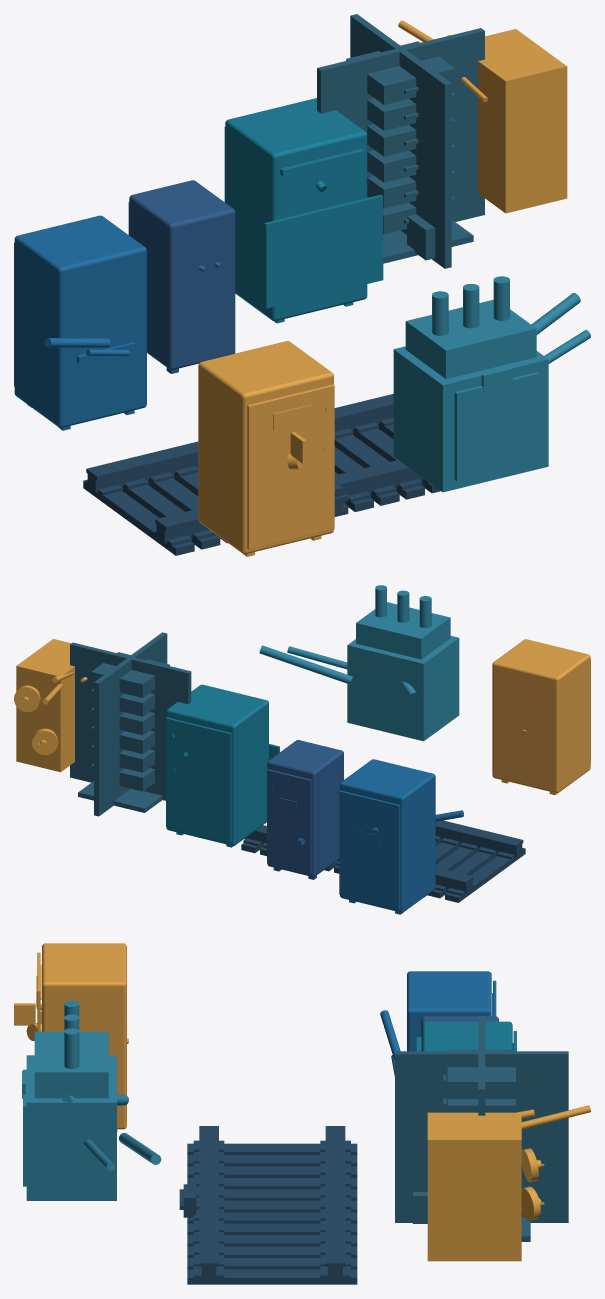
The model's file is regentransit-exploded.glb.
3 views of the same model, one above another, from view 1: azimuth 30°, elevation 25°; view 2: azimuth 150°, elevation 25°; view 3: azimuth 270°, elevation 25° (orthographic). The views are drawn at different scales.
Visible parts, largest first — view 1: regentransit.wayside_converter, regentransit.grid_wayside_interface, regentransit.storage_rack, regentransit.protection_switchgear, regentransit.traction_inverter, regentransit.rail_interface, regentransit.braking_control, regentransit.thermal_management; view 2: regentransit.storage_rack, regentransit.grid_wayside_interface, regentransit.wayside_converter, regentransit.protection_switchgear, regentransit.traction_inverter, regentransit.braking_control, regentransit.thermal_management, regentransit.rail_interface; view 3: regentransit.rail_interface, regentransit.storage_rack, regentransit.grid_wayside_interface, regentransit.thermal_management, regentransit.protection_switchgear, regentransit.traction_inverter, regentransit.wayside_converter, regentransit.braking_control.
Boxes of the visible parts, x1,y1,x2,y2 form: regentransit.wayside_converter: (224,98,383,323); regentransit.grid_wayside_interface: (393,276,590,492); regentransit.storage_rack: (317,14,484,268); regentransit.protection_switchgear: (198,341,334,556); regentransit.traction_inverter: (14,215,146,430); regentransit.rail_interface: (83,394,440,555); regentransit.braking_control: (128,180,235,373); regentransit.thermal_management: (398,20,567,213); regentransit.storage_rack: (70,632,191,816); regentransit.grid_wayside_interface: (259,585,459,741); regentransit.wayside_converter: (166,684,279,847); regentransit.protection_switchgear: (492,639,590,794); regentransit.traction_inverter: (339,759,463,914); regentransit.braking_control: (267,740,343,879); regentransit.thermal_management: (14,639,87,772); regentransit.rail_interface: (241,820,525,902); regentransit.rail_interface: (179,1126,357,1284); regentransit.storage_rack: (395,1016,568,1241); regentransit.grid_wayside_interface: (22,1000,161,1200); regentransit.thermal_management: (427,1105,590,1261); regentransit.protection_switchgear: (14,943,128,1132); regentransit.traction_inverter: (380,971,496,1076); regentransit.wayside_converter: (416,1021,516,1051); regentransit.braking_control: (421,1016,498,1050).
Bounding box in the file's own units: 3189 × 1650 × 3194.
